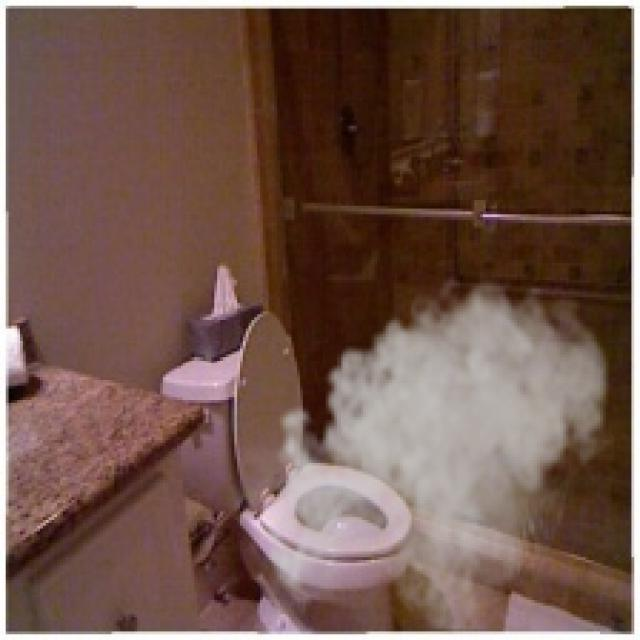Smoke: (254, 268, 617, 634)
